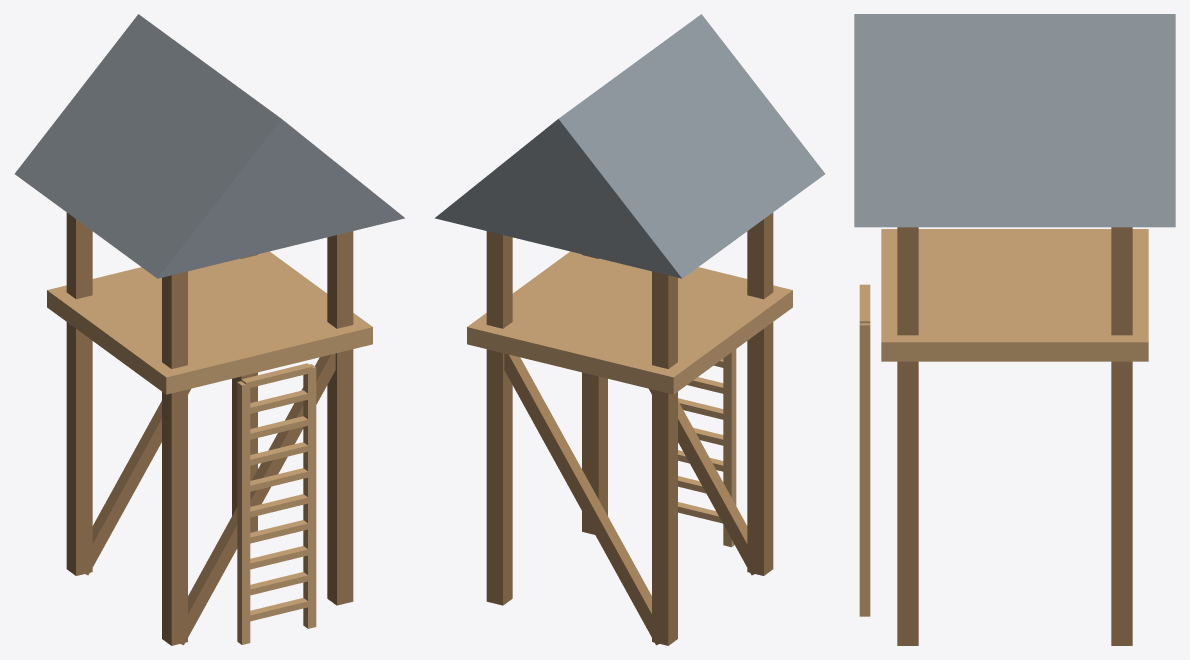
File: watch-post.glb
3 renders of one model, left to right at view 1: azimuth 30°, elevation 25°; view 2: azimuth 150°, elevation 25°; view 3: azimuth 270°, elevation 25°, orthographic. The views are drawn at different scales.
Parts seen in each view (by area): view 1: watch-post; view 2: watch-post; view 3: watch-post.
Part boxes in pixels (<box>): watch-post: <box>15,14,404,645</box>; watch-post: <box>435,14,824,645</box>; watch-post: <box>854,14,1175,645</box>.
Size of the model in its own units: 3 by 6.04 by 3.
